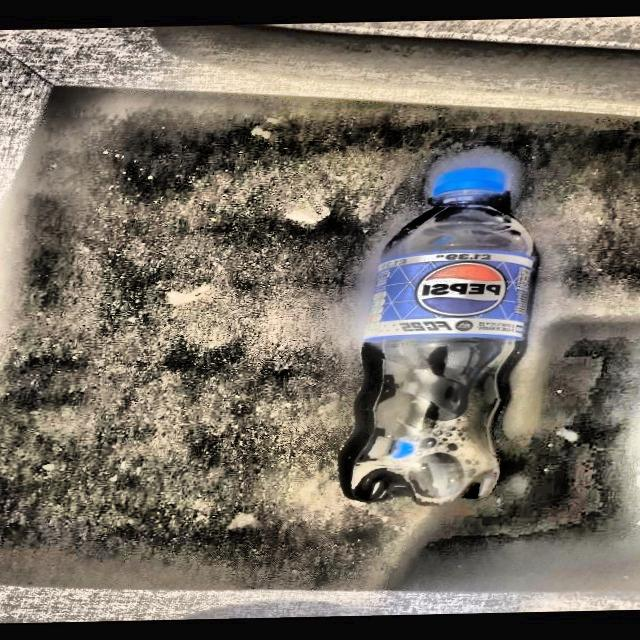pepsi-bottle: (346, 163, 536, 509)
